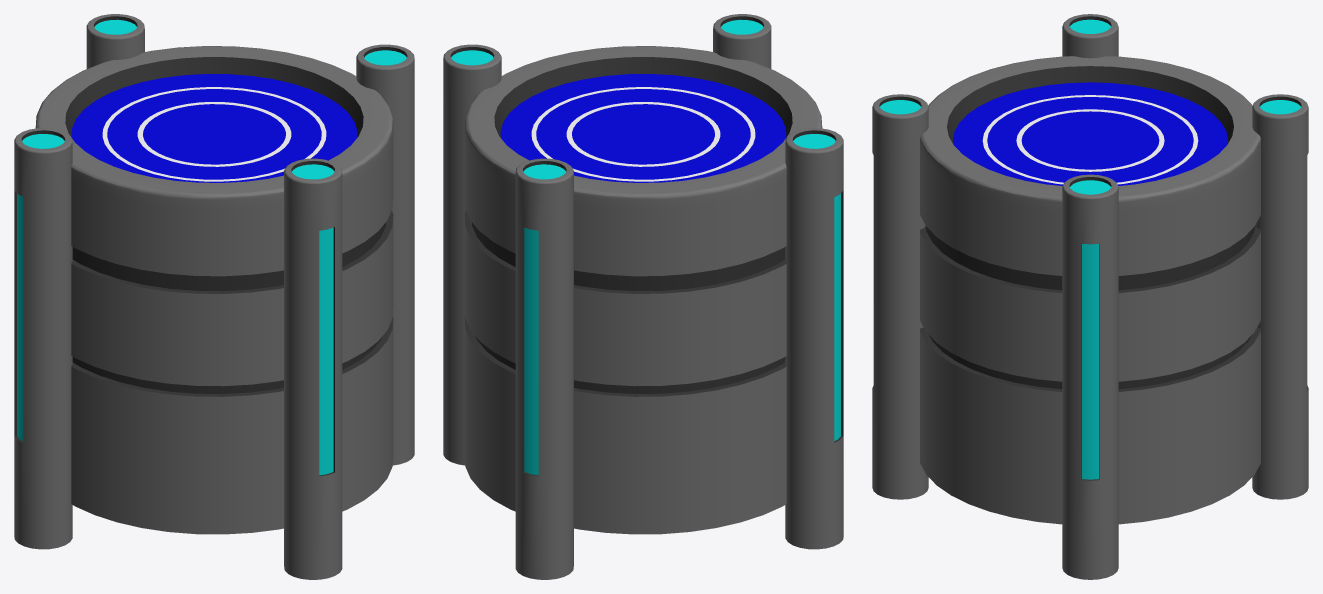
File: Analyzer.fbx
3 renders of one model, left to right at view 1: azimuth 30°, elevation 25°; view 2: azimuth 150°, elevation 25°; view 3: azimuth 270°, elevation 25°, orthographic. The views are drawn at different scales.
Parts seen in each view (by area): view 1: analyzer, pCylinder3, pCylinder2, pCylinder4, pCylinder5; view 2: analyzer, pCylinder5, pCylinder2, pCylinder4, pCylinder3; view 3: analyzer, pCylinder4, pCylinder3, pCylinder5, pCylinder2.
Boxes of the visible parts, x1,y1,x2,y2 form: analyzer: (35, 46, 393, 534); pCylinder3: (284, 158, 342, 579); pCylinder2: (14, 128, 72, 549); pCylinder4: (356, 44, 414, 465); pCylinder5: (86, 14, 144, 68); analyzer: (464, 46, 822, 534); pCylinder5: (515, 158, 573, 579); pCylinder2: (785, 128, 843, 549); pCylinder4: (443, 44, 501, 465); pCylinder3: (713, 14, 771, 68); analyzer: (920, 56, 1260, 524); pCylinder4: (1062, 174, 1118, 579); pCylinder3: (872, 94, 928, 499); pCylinder5: (1252, 94, 1308, 499); pCylinder2: (1062, 14, 1118, 58).
Size of the model in its own units: 0.6334 by 0.6123 by 0.6334.
